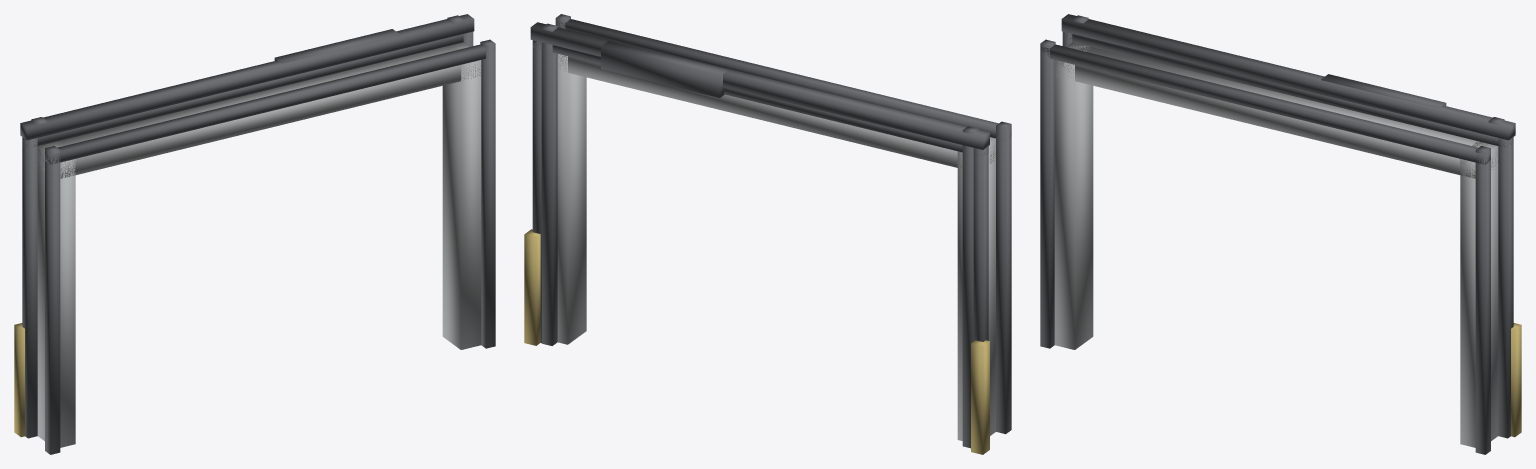
Rendered from bay_opening_loading_bay_w360_h240_d30.glb.
The picture shows the model from 3 angles, left to right: view 1: azimuth 30°, elevation 25°; view 2: azimuth 150°, elevation 25°; view 3: azimuth 330°, elevation 25°; orthographic projection.
Visible parts, largest first — view 1: world; view 2: world; view 3: world.
Part boxes in pixels (box(x1,y1,x2,y2)): world: box(14, 14, 495, 454); world: box(524, 14, 1011, 454); world: box(1040, 14, 1521, 454).
Size of the model in its own units: 4.23 by 2.79 by 0.522.
